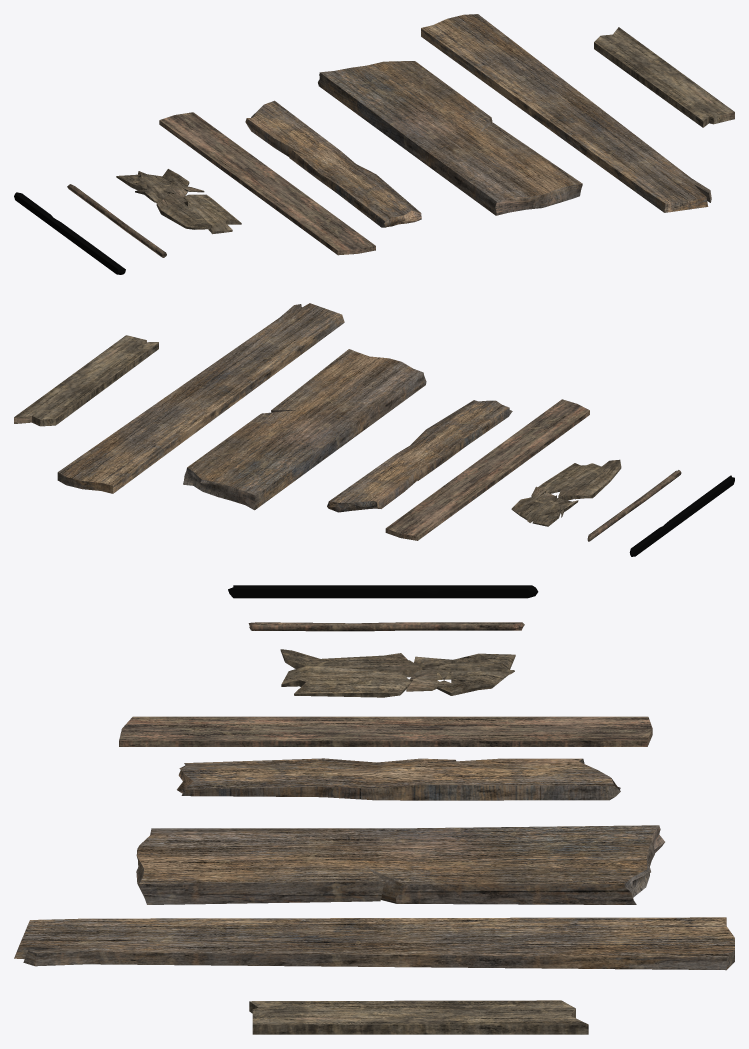
The model's file is simple_wood_planks_debris_pack.glb.
3 views of the same model, one above another, from view 1: azimuth 30°, elevation 25°; view 2: azimuth 150°, elevation 25°; view 3: azimuth 270°, elevation 25° (orthographic). The views are drawn at different scales.
Parts seen in each view (by area): view 1: plank_03, plank_02, plank_05, plank_04, plank_01, plank_06_Broken, post_02, post_01; view 2: plank_03, plank_02, plank_05, plank_04, plank_01, plank_06_Broken, post_02, post_01; view 3: plank_03, plank_02, plank_04, plank_05, plank_01, plank_06_Broken, post_02, post_01.
Boxes of the visible parts, x1=… form: plank_03: x1=318, y1=61, x2=582, y2=215; plank_02: x1=421, y1=14, x2=711, y2=212; plank_05: x1=159, y1=112, x2=375, y2=255; plank_04: x1=245, y1=100, x2=421, y2=227; plank_01: x1=594, y1=27, x2=734, y2=127; plank_06_Broken: x1=116, y1=169, x2=241, y2=234; post_02: x1=14, y1=192, x2=125, y2=274; post_01: x1=67, y1=184, x2=166, y2=257; plank_03: x1=183, y1=349, x2=426, y2=510; plank_02: x1=57, y1=303, x2=344, y2=493; plank_05: x1=385, y1=399, x2=589, y2=540; plank_04: x1=327, y1=400, x2=512, y2=512; plank_01: x1=14, y1=335, x2=158, y2=426; plank_06_Broken: x1=511, y1=459, x2=621, y2=526; post_02: x1=629, y1=475, x2=734, y2=556; post_01: x1=587, y1=470, x2=681, y2=541; plank_03: x1=136, y1=825, x2=664, y2=904; plank_02: x1=14, y1=917, x2=734, y2=970; plank_04: x1=177, y1=758, x2=620, y2=800; plank_05: x1=119, y1=716, x2=652, y2=746; plank_01: x1=249, y1=1000, x2=588, y2=1034; plank_06_Broken: x1=280, y1=649, x2=515, y2=697; post_02: x1=228, y1=585, x2=538, y2=598; post_01: x1=248, y1=622, x2=524, y2=631.
Bounding box in the file's own units: 0.1275 × 0.00354 × 0.0883.
1 material, 1 textured.
